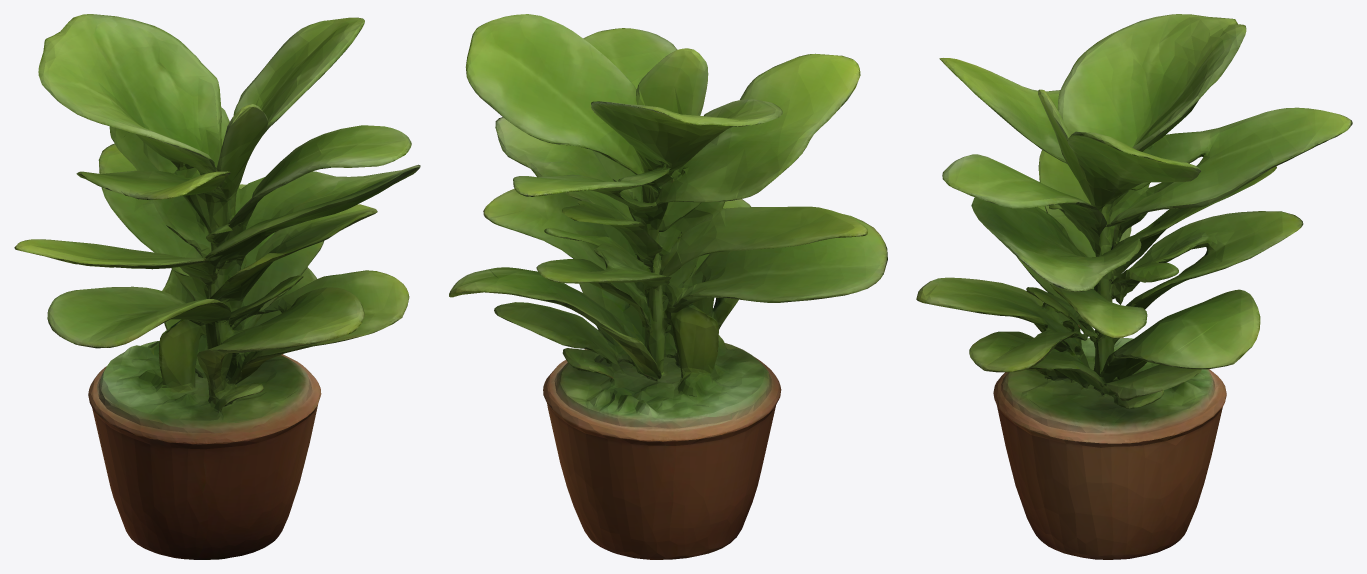
Rendered from houseplant2.glb.
3 renders of one model, left to right at view 1: azimuth 30°, elevation 25°; view 2: azimuth 150°, elevation 25°; view 3: azimuth 270°, elevation 25°, orthographic. The views are drawn at different scales.
Visible parts, largest first — view 1: geometry_0; view 2: geometry_0; view 3: geometry_0.
Boxes of the visible parts, box(x1,y1,x2,y2) form: geometry_0: box(14, 14, 420, 559); geometry_0: box(449, 14, 887, 559); geometry_0: box(916, 14, 1352, 559).
Bounding box in the file's own units: 0.8447 × 0.9995 × 0.8359.
Materials: 1 (1 with a texture image).
